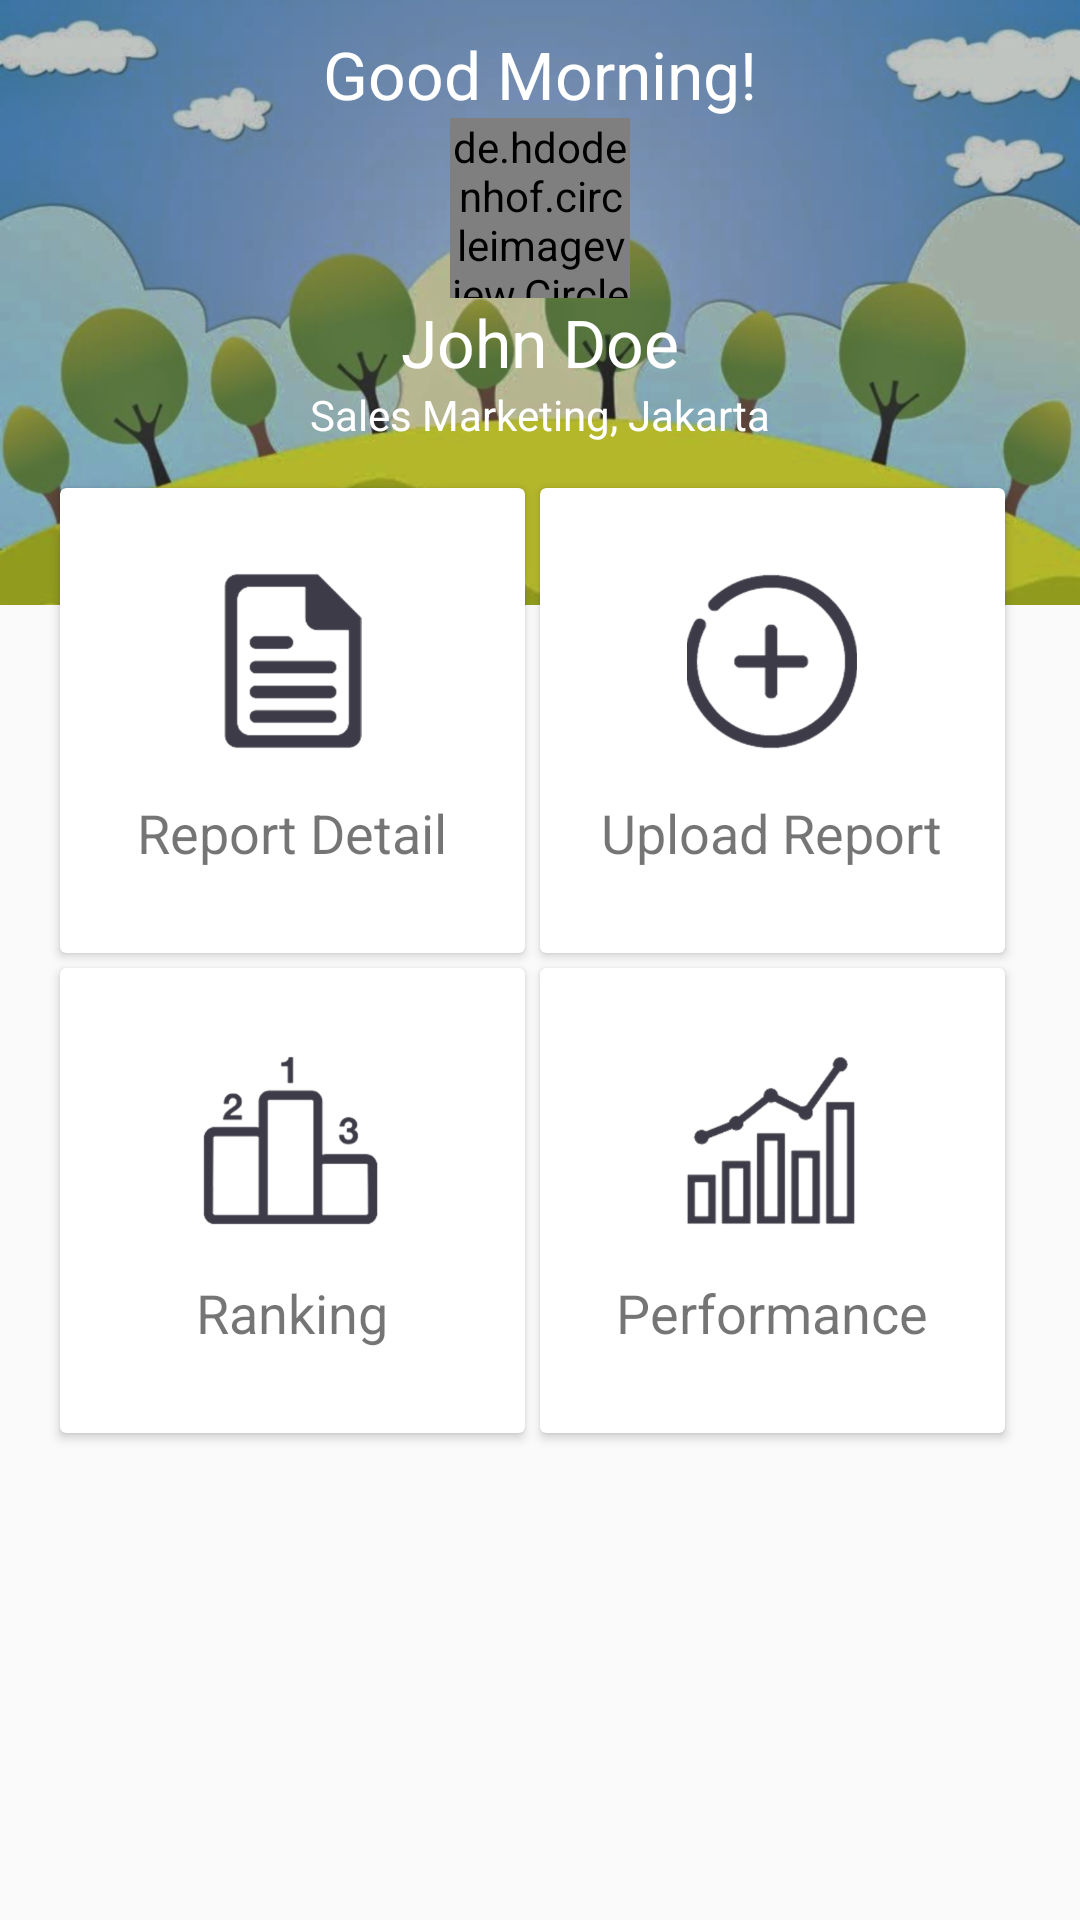

Icon click points for this 1080*1920 phone screenshot, format point (x, y):
document: point (293, 661)
graph: point (771, 1140)
plus circle: point (772, 661)
